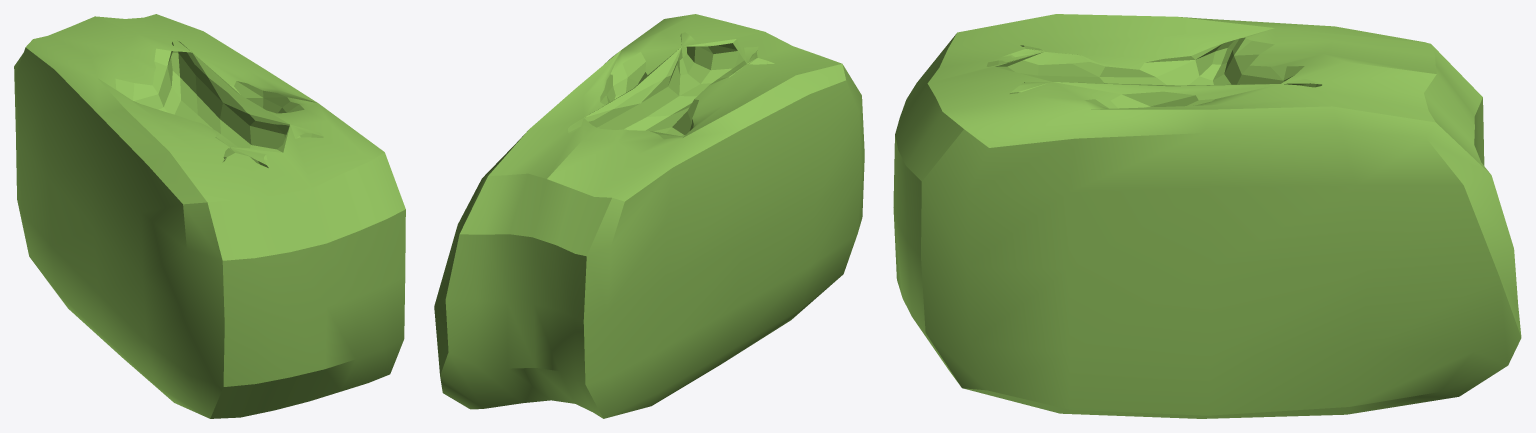
Rendered from Rune6.obj.
The picture shows the model from 3 angles, left to right: view 1: azimuth 30°, elevation 25°; view 2: azimuth 150°, elevation 25°; view 3: azimuth 270°, elevation 25°; orthographic projection. The views are drawn at different scales.
Visible parts, largest first — view 1: Rune6; view 2: Rune6; view 3: Rune6.
Boxes of the visible parts, x1,y1,x2,y2 form: Rune6: (14, 14, 405, 418); Rune6: (434, 14, 864, 418); Rune6: (893, 14, 1521, 418).
Bounding box in the file's own units: 2.21 × 2.58 × 4.7.
